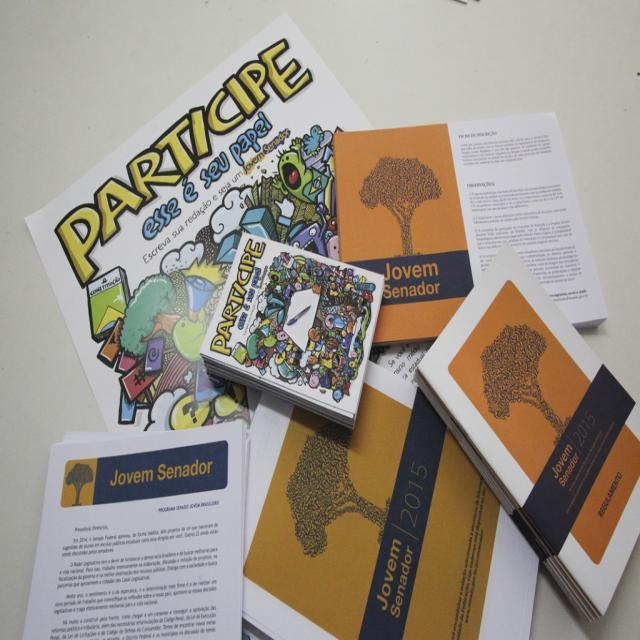book: (413, 242, 640, 625), (234, 362, 541, 640), (330, 117, 608, 340), (21, 422, 242, 640), (202, 228, 388, 426)
